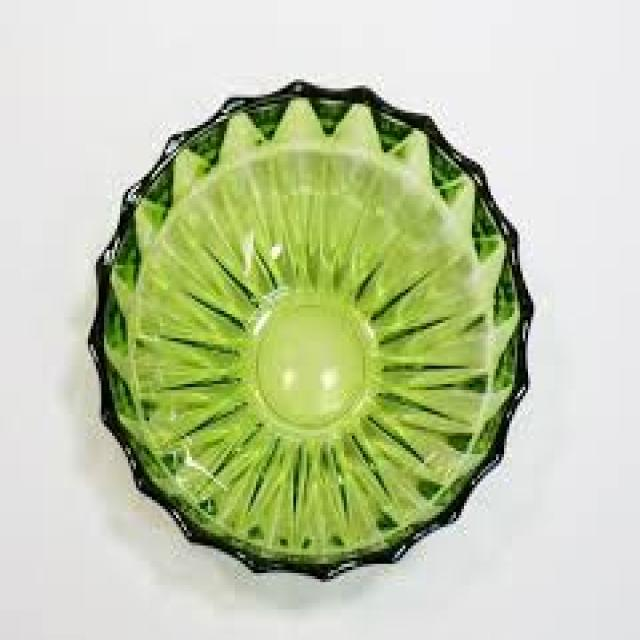glass: (85, 76, 531, 579)
